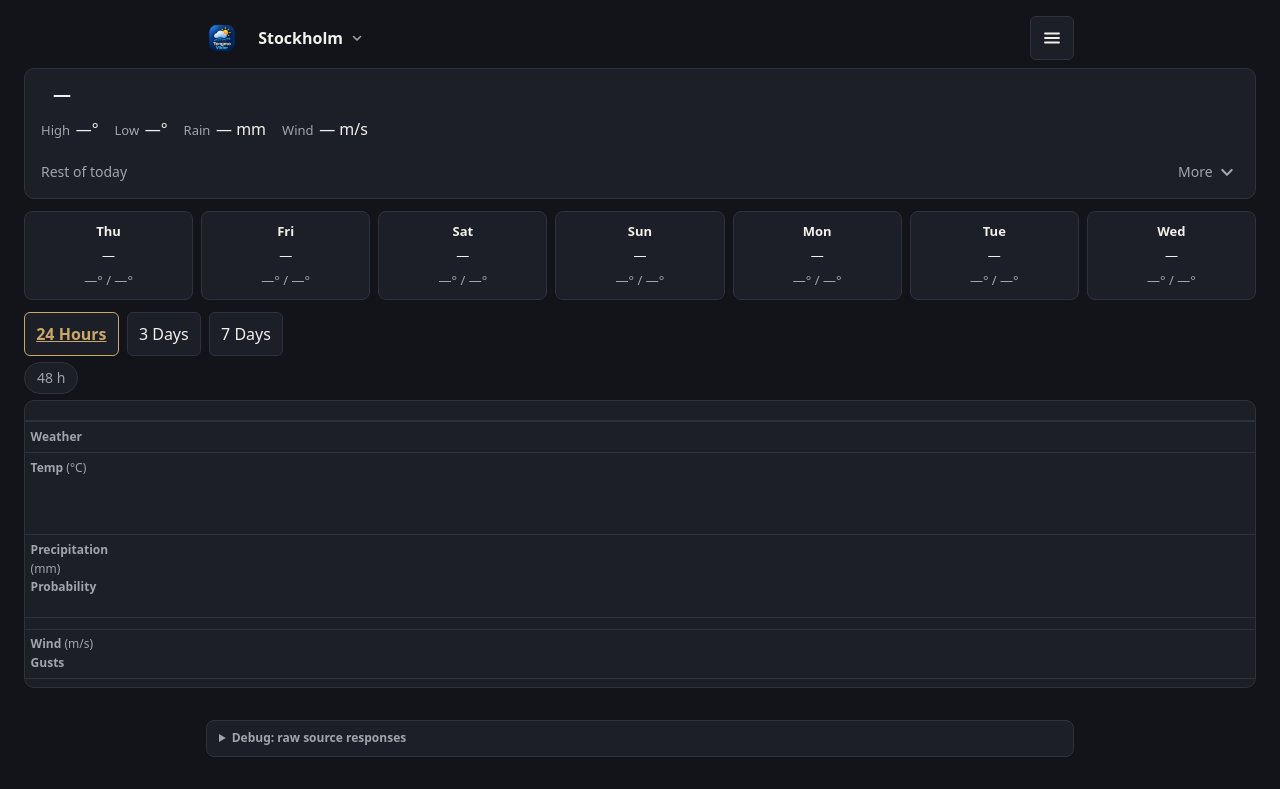
Scenario: Header overflow menu › opens Settings inside the menu with unit and language controls
Click the button named "Menu": (1052, 38) [1030,16,1074,60]
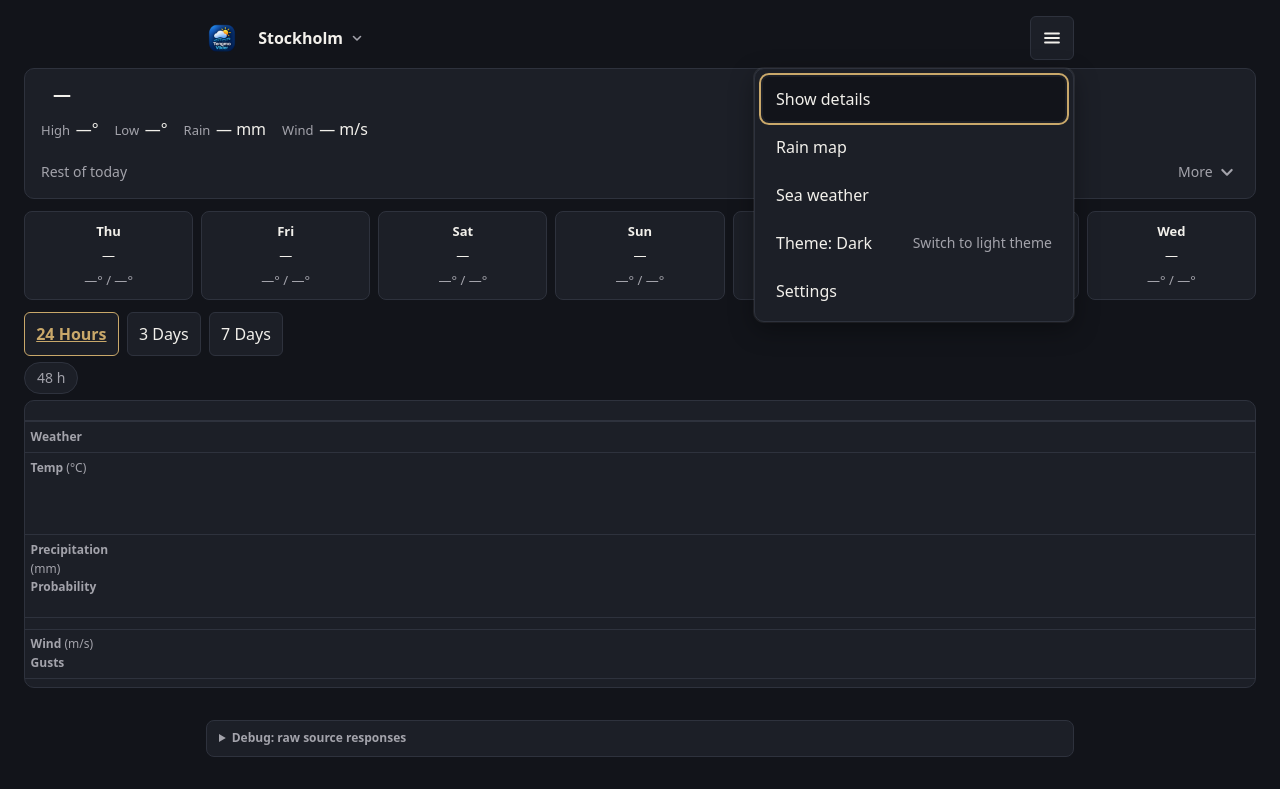
Click the menu item "Settings": (806, 291) [763,269,1065,313]
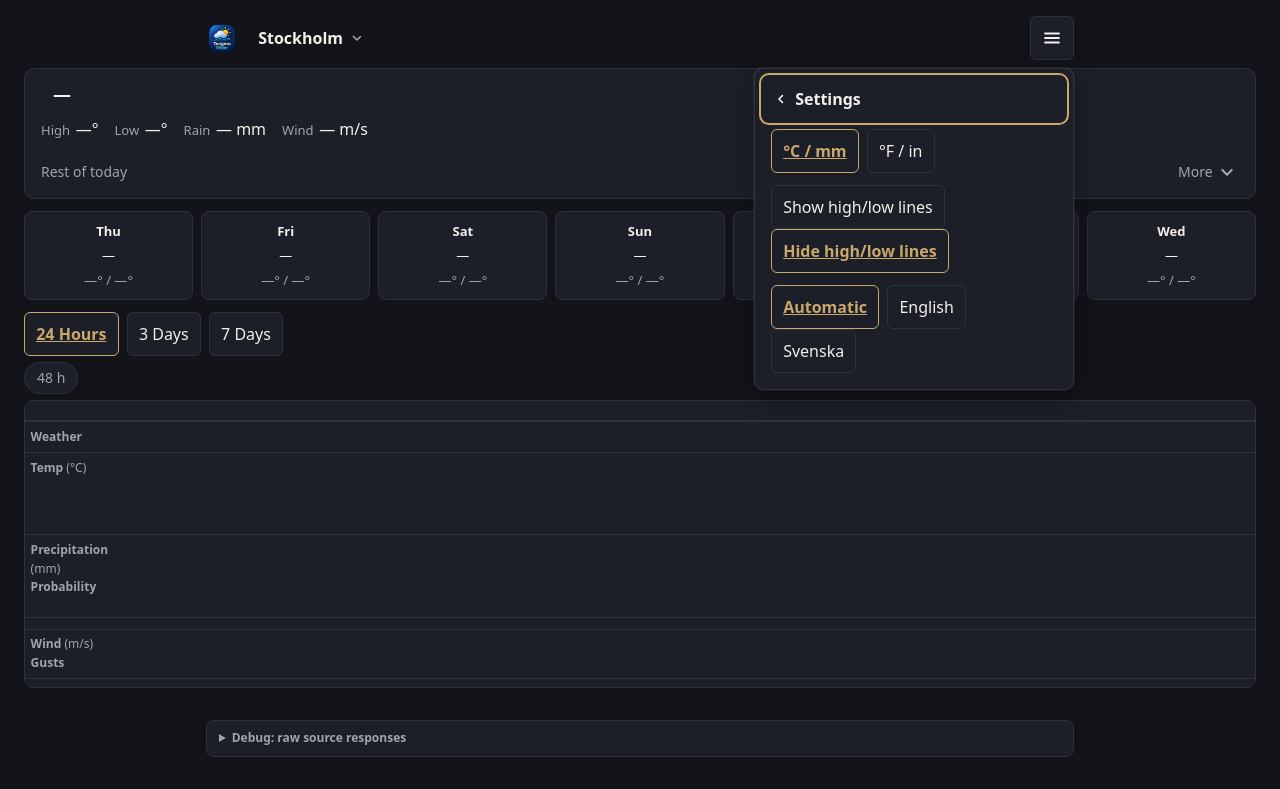
Now the button "°F / in" is shown, box [867,129,935,173]
Now the button "Svenska" is shown, box [771,329,856,373]
